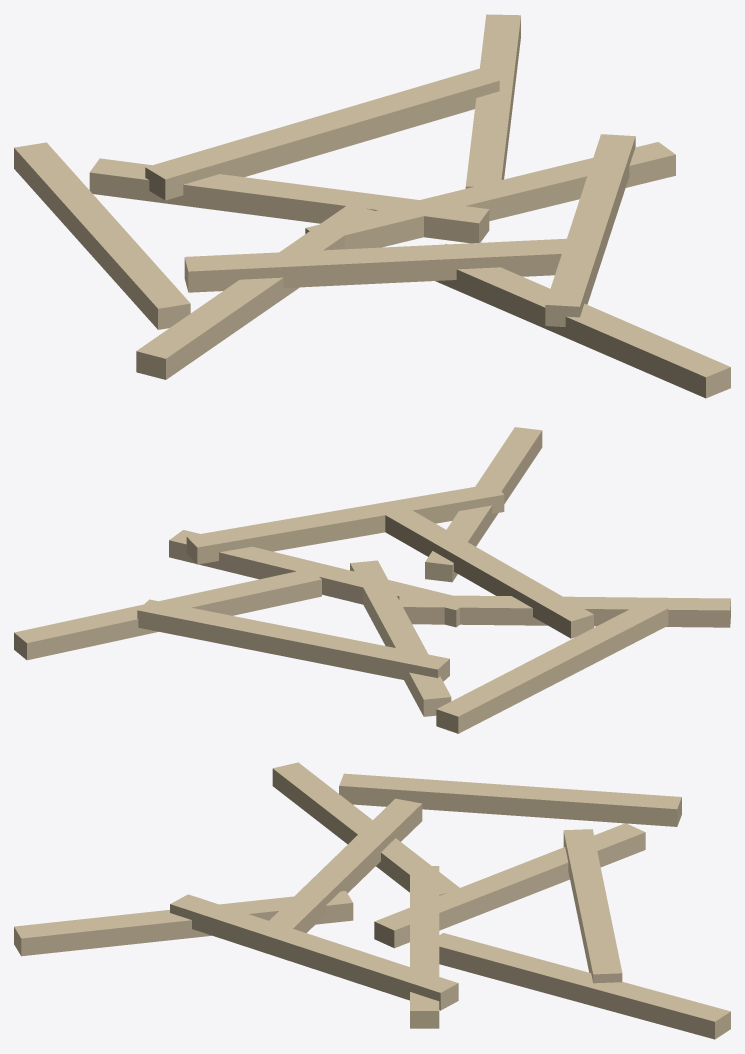
File: hair_tuft.glb
3 renders of one model, top to bottom at view 1: azimuth 30°, elevation 25°; view 2: azimuth 150°, elevation 25°; view 3: azimuth 270°, elevation 25°, orthographic. The views are drawn at different scales.
Visible parts, largest first — view 1: strands_tuft; view 2: strands_tuft; view 3: strands_tuft.
Part boxes in pixels (x1=…): strands_tuft: x1=14, y1=14, x2=730, y2=398; strands_tuft: x1=14, y1=427, x2=730, y2=733; strands_tuft: x1=14, y1=762, x2=730, y2=1039.
Size of the model in its own units: 0.1255 by 0.006 by 0.1465.
